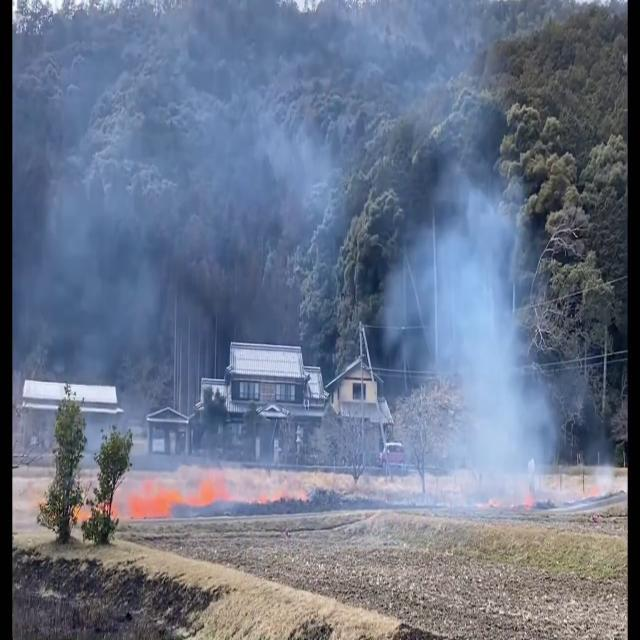Smoke: (32, 0, 350, 400), (384, 30, 586, 518)
